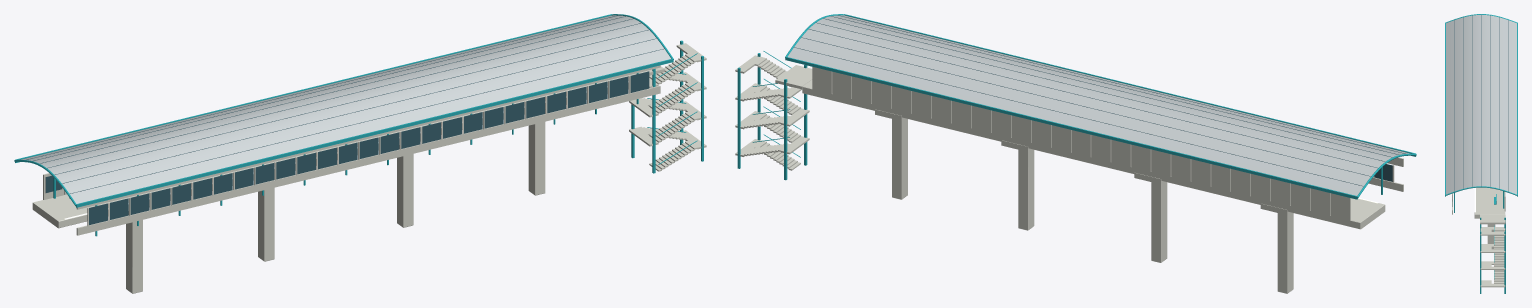
Rendered from MetroStation.glb.
3 renders of one model, left to right at view 1: azimuth 30°, elevation 25°; view 2: azimuth 150°, elevation 25°; view 3: azimuth 270°, elevation 25°, orthographic. The views are drawn at different scales.
Parts seen in each view (by area): view 1: MetroStation_V8_Station_Silver_Roof, MetroStation_V8_Concrete_Ivory, MetroStation_V8_Transit_Window_Glass, MetroStation_V8_Transit_Teal; view 2: MetroStation_V8_Station_Silver_Roof, MetroStation_V8_Concrete_Ivory, MetroStation_V8_Transit_Teal, MetroStation_V8_Transit_Window_Glass; view 3: MetroStation_V8_Station_Silver_Roof, MetroStation_V8_Concrete_Ivory, MetroStation_V8_Transit_Window_Glass, MetroStation_V8_Transit_Teal.
Part boxes in pixels (x1=…): MetroStation_V8_Station_Silver_Roof: x1=21, y1=15, x2=670, y2=203; MetroStation_V8_Concrete_Ivory: x1=32, y1=43, x2=706, y2=293; MetroStation_V8_Transit_Window_Glass: x1=26, y1=15, x2=664, y2=225; MetroStation_V8_Transit_Teal: x1=14, y1=14, x2=703, y2=236; MetroStation_V8_Station_Silver_Roof: x1=787, y1=15, x2=1409, y2=195; MetroStation_V8_Concrete_Ivory: x1=735, y1=55, x2=1403, y2=293; MetroStation_V8_Transit_Teal: x1=737, y1=14, x2=1416, y2=199; MetroStation_V8_Transit_Window_Glass: x1=794, y1=15, x2=1405, y2=186; MetroStation_V8_Station_Silver_Roof: x1=1446, y1=15, x2=1516, y2=194; MetroStation_V8_Concrete_Ivory: x1=1452, y1=187, x2=1505, y2=287; MetroStation_V8_Transit_Window_Glass: x1=1452, y1=14, x2=1508, y2=206; MetroStation_V8_Transit_Teal: x1=1445, y1=14, x2=1517, y2=293.
Bounding box in the file's own units: 95.24 × 21.05 × 15.38.
